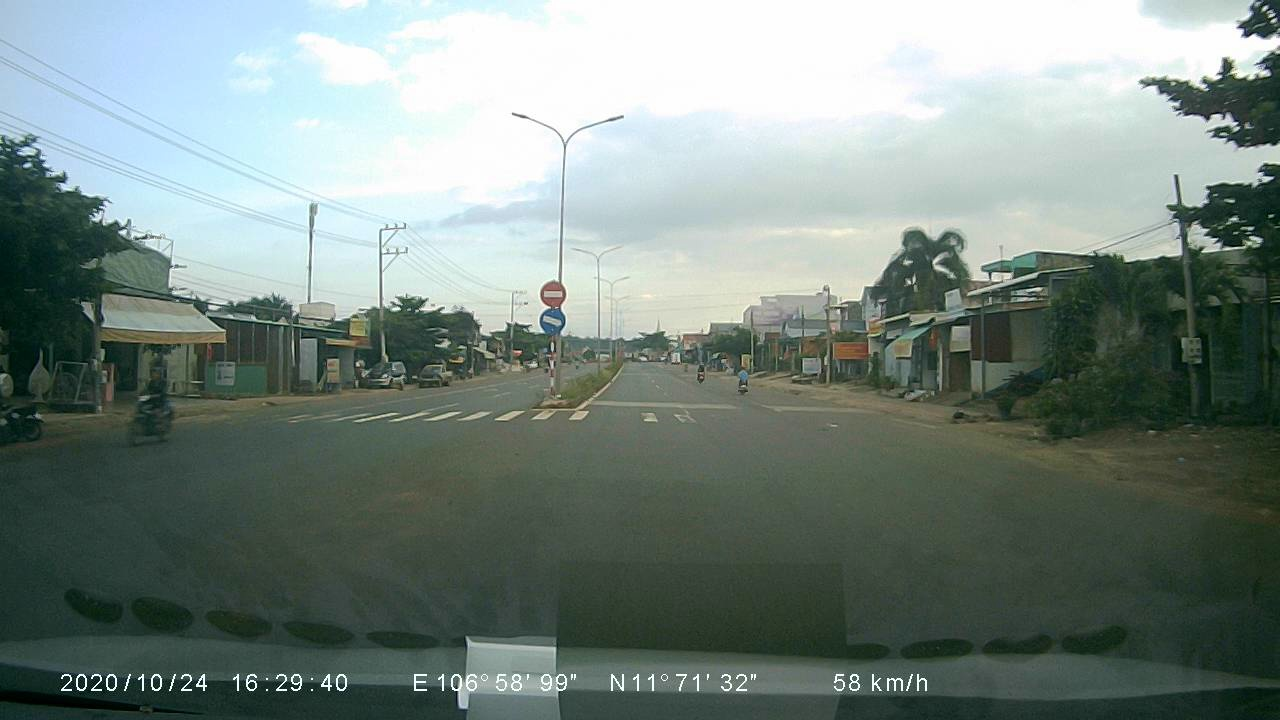Cam di nguoc chieu: (539, 280, 567, 309)
Huong di phai re phai: (537, 307, 568, 335)
